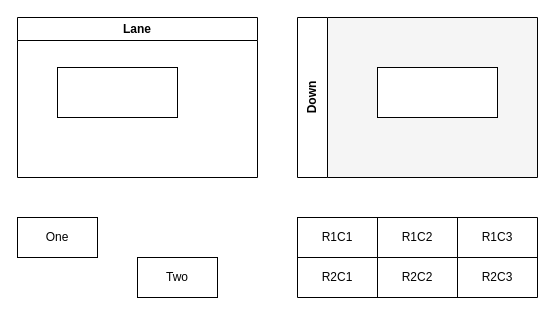
This 555x315 diagram has some shape labels left out. The shapes that lost their labels are listed below. From the top down, each one's centre as x and y in pixels, then its label:
(x=117, y=92): Inside
(x=437, y=92): Beside
